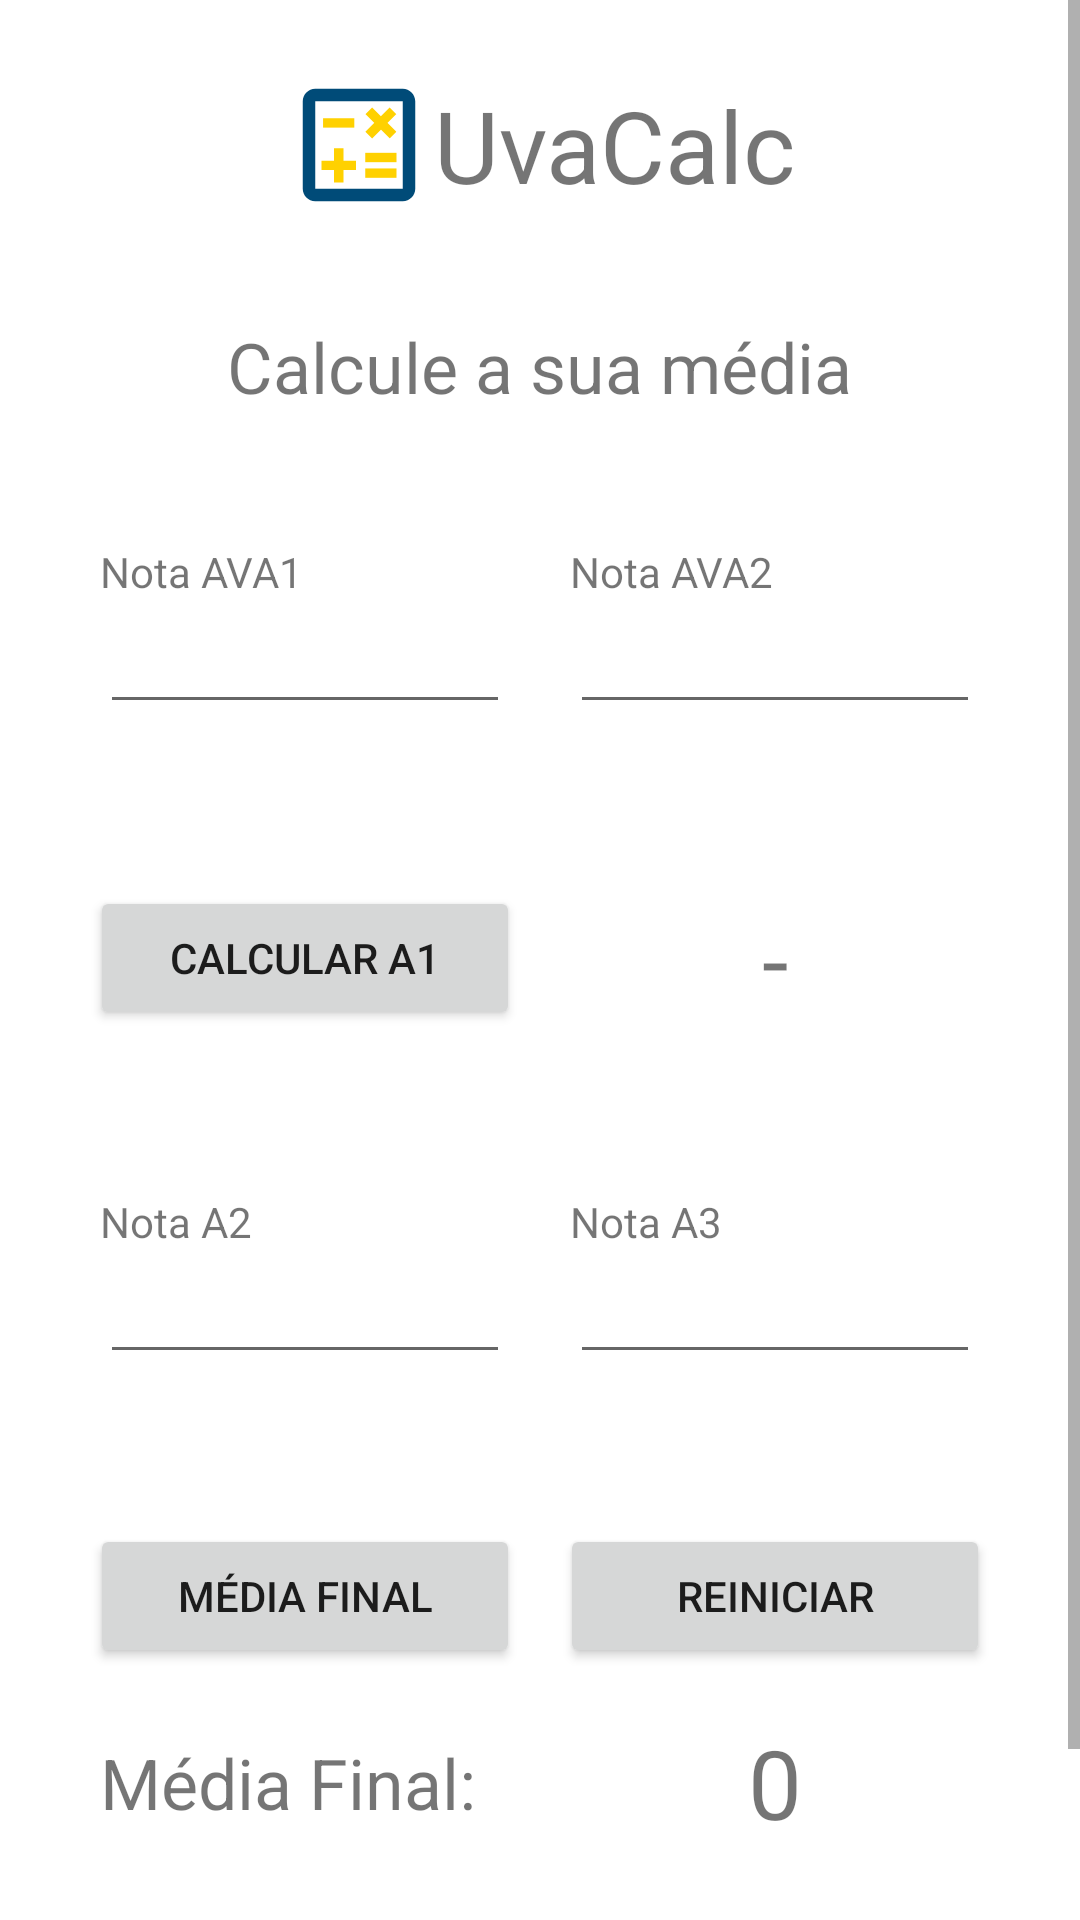

Named icons in this screenshot (1080w x 1920h) and their centers, (x=x, y=y):
calculate: (x=359, y=145)
